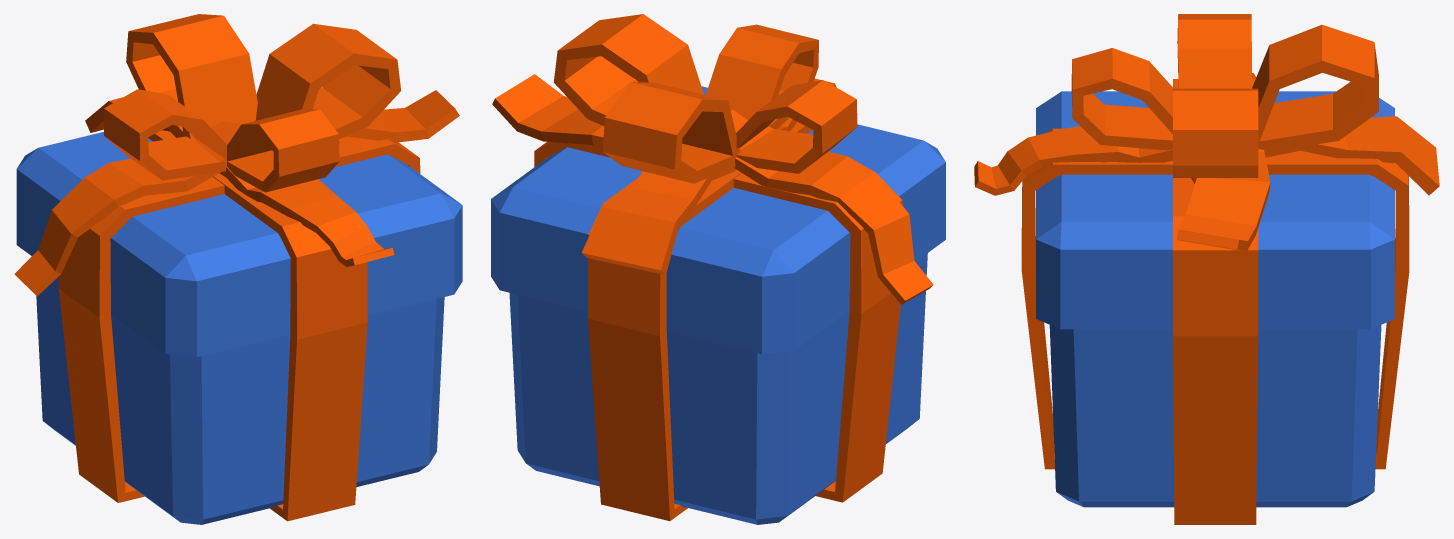
Rendered from Gift_Box.fbx.
3 renders of one model, left to right at view 1: azimuth 30°, elevation 25°; view 2: azimuth 150°, elevation 25°; view 3: azimuth 270°, elevation 25°, orthographic. The views are drawn at different scales.
Parts seen in each view (by area): view 1: Gift_Box; view 2: Gift_Box; view 3: Gift_Box.
Boxes of the visible parts, left/top/right/bottom form: Gift_Box: left=14, top=14, right=462, bottom=524; Gift_Box: left=491, top=14, right=945, bottom=524; Gift_Box: left=974, top=14, right=1439, bottom=524.
Size of the model in its own units: 159 by 142 by 146.
